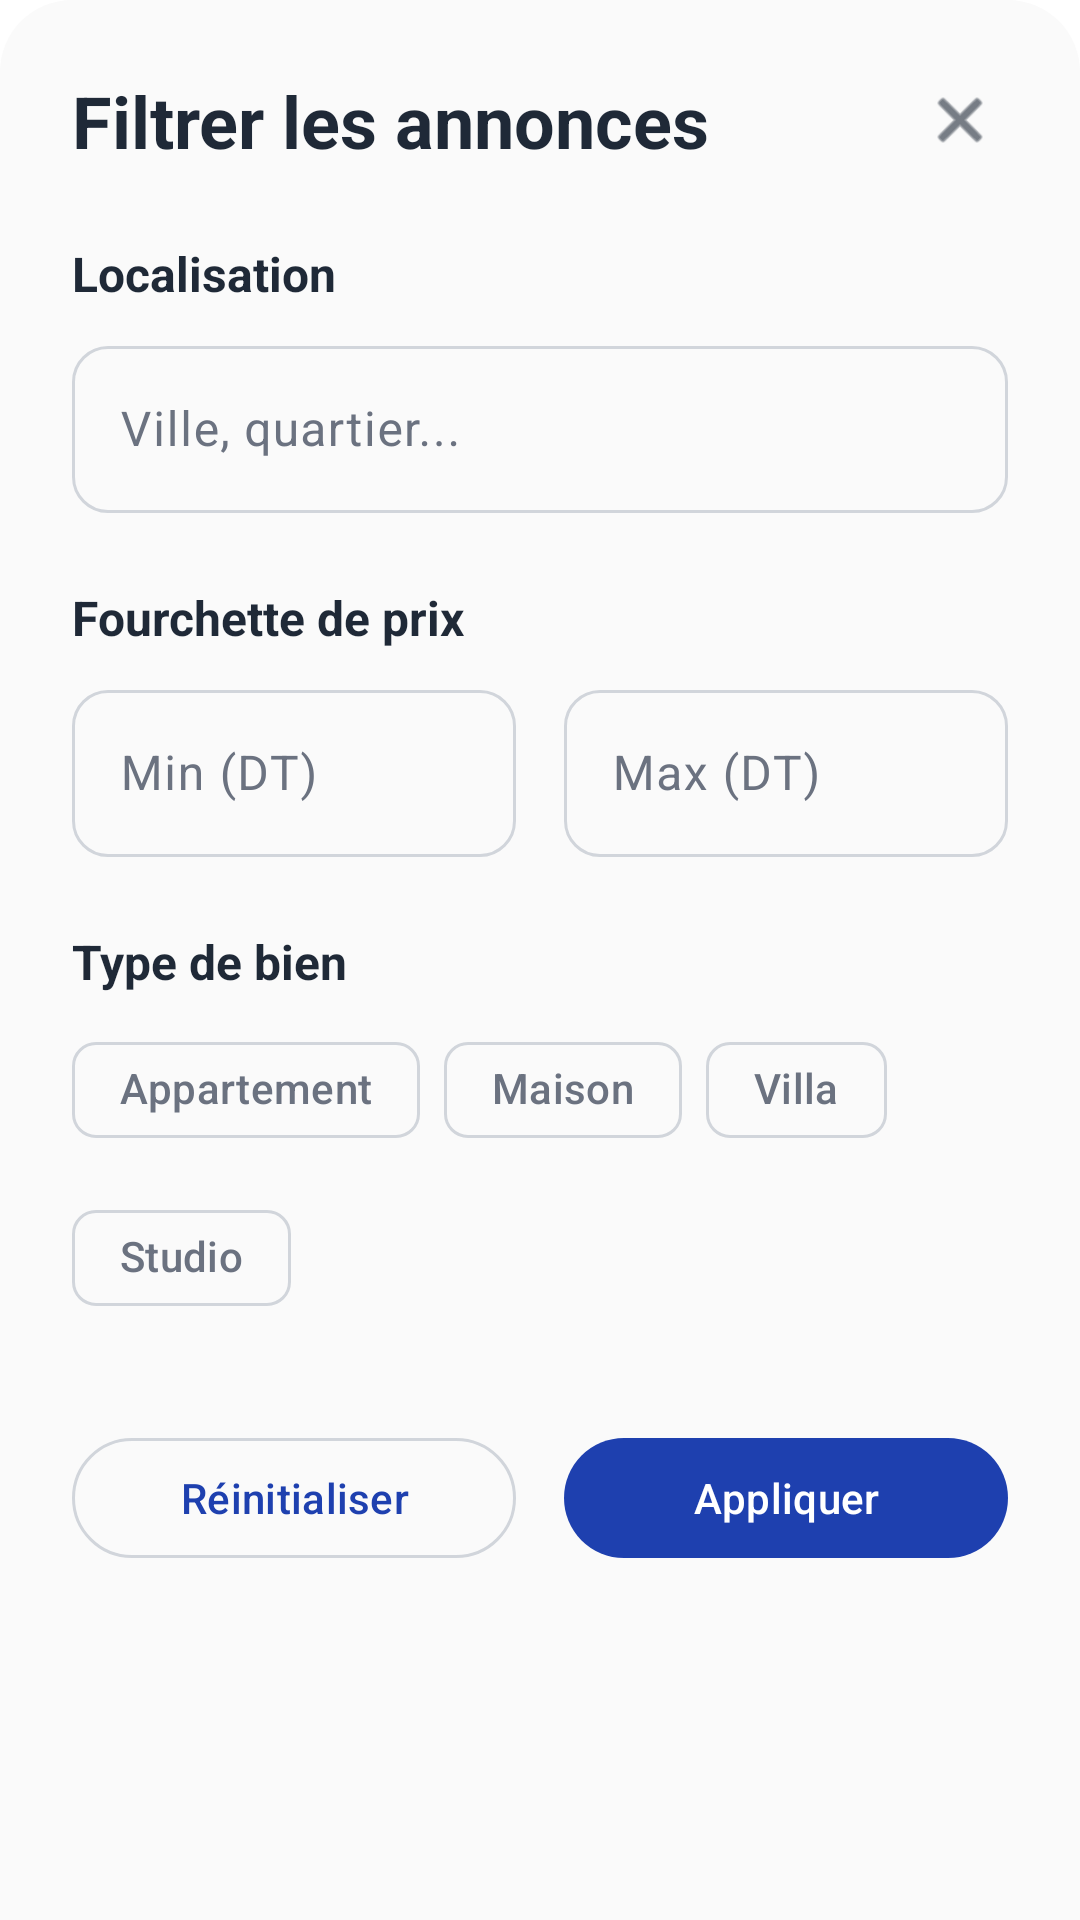

Screen size 1080 × 1920. Icon name, then its box in pixels as (x1, y1, x2, y2):
close clear cancel: (937, 97, 983, 143)
